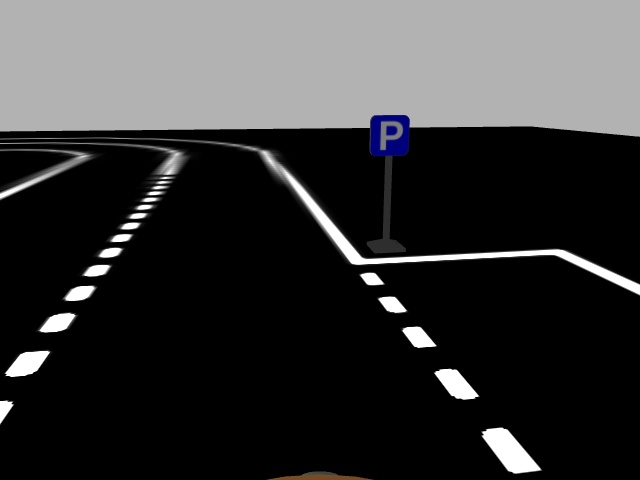parking: (368, 113, 410, 156)
